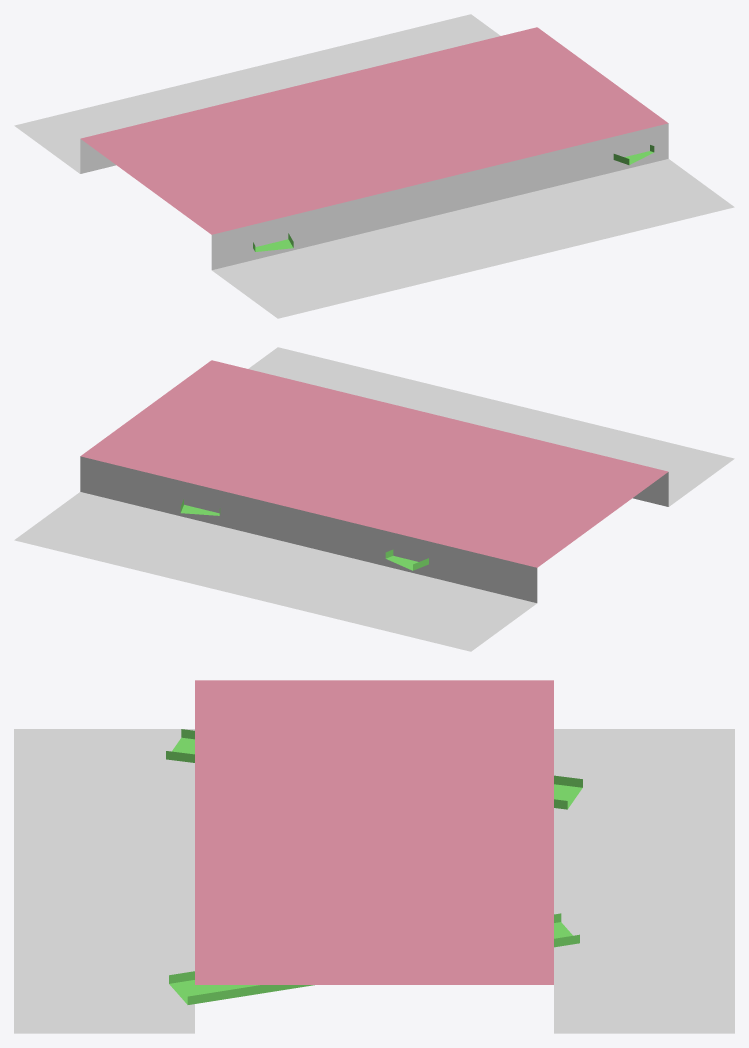
File: Floor_01_Ceiling_02a.fbx
3 renders of one model, top to bottom at view 1: azimuth 30°, elevation 25°; view 2: azimuth 150°, elevation 25°; view 3: azimuth 270°, elevation 25°, orthographic. The views are drawn at different scales.
Visible parts, largest first — view 1: Plane; view 2: Plane; view 3: Plane.
Part boxes in pixels (x1,y1,x2,y2): Plane: (14,14,734,318); Plane: (14,347,734,651); Plane: (14,680,734,1033).
Size of the model in its own units: 200 by 14.84 by 200.
